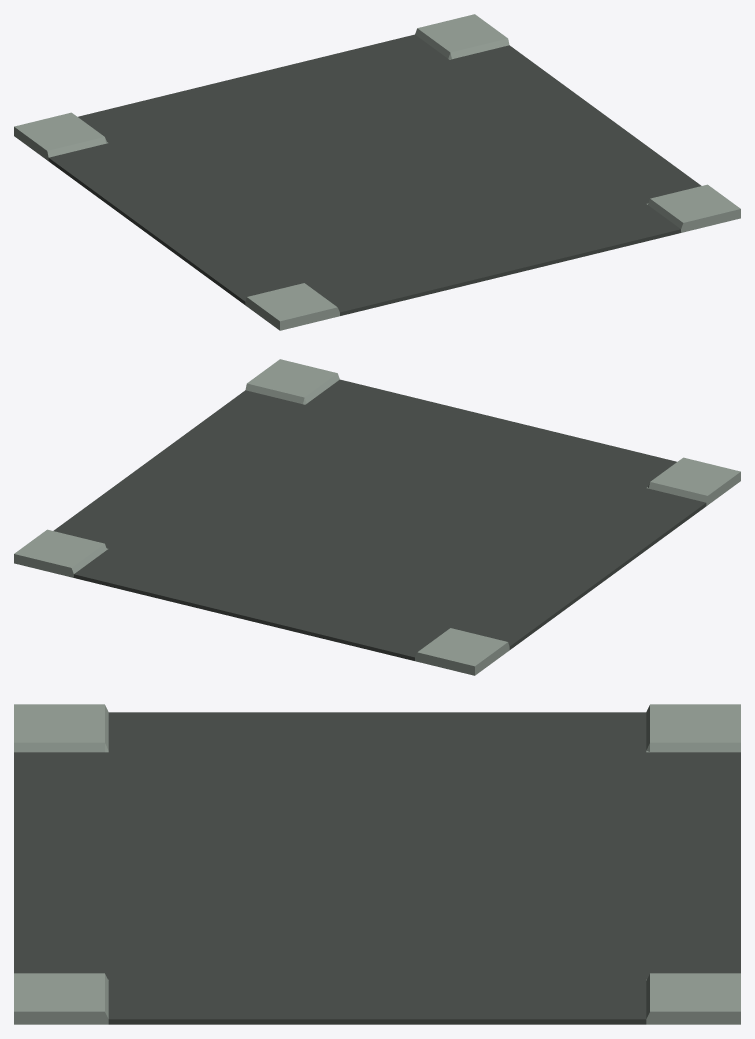
Rendered from road.000.obj.
3 renders of one model, top to bottom at view 1: azimuth 30°, elevation 25°; view 2: azimuth 150°, elevation 25°; view 3: azimuth 270°, elevation 25°, orthographic. The views are drawn at different scales.
Visible parts, largest first — view 1: Road.000; view 2: Road.000; view 3: Road.000.
Part boxes in pixels (x1=…): Road.000: x1=14, y1=14, x2=740, y2=330; Road.000: x1=14, y1=359, x2=740, y2=675; Road.000: x1=14, y1=704, x2=740, y2=1024.
Size of the model in its own units: 2 by 0.0393 by 2.
Materials: 1 (1 with a texture image).
